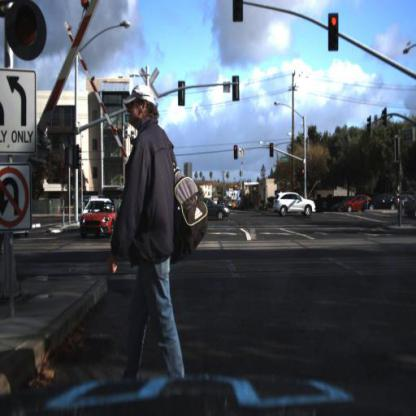car: (272, 192, 317, 223), (192, 196, 232, 224), (363, 192, 406, 215), (75, 199, 103, 233), (345, 193, 375, 216)
pedestrian: (111, 77, 209, 404), (108, 78, 183, 410)
trafficLight: (11, 2, 45, 56), (233, 2, 245, 24)
trafficLight-Red: (328, 14, 340, 52), (269, 140, 277, 161), (301, 165, 307, 186), (233, 143, 239, 161), (271, 142, 275, 158)
